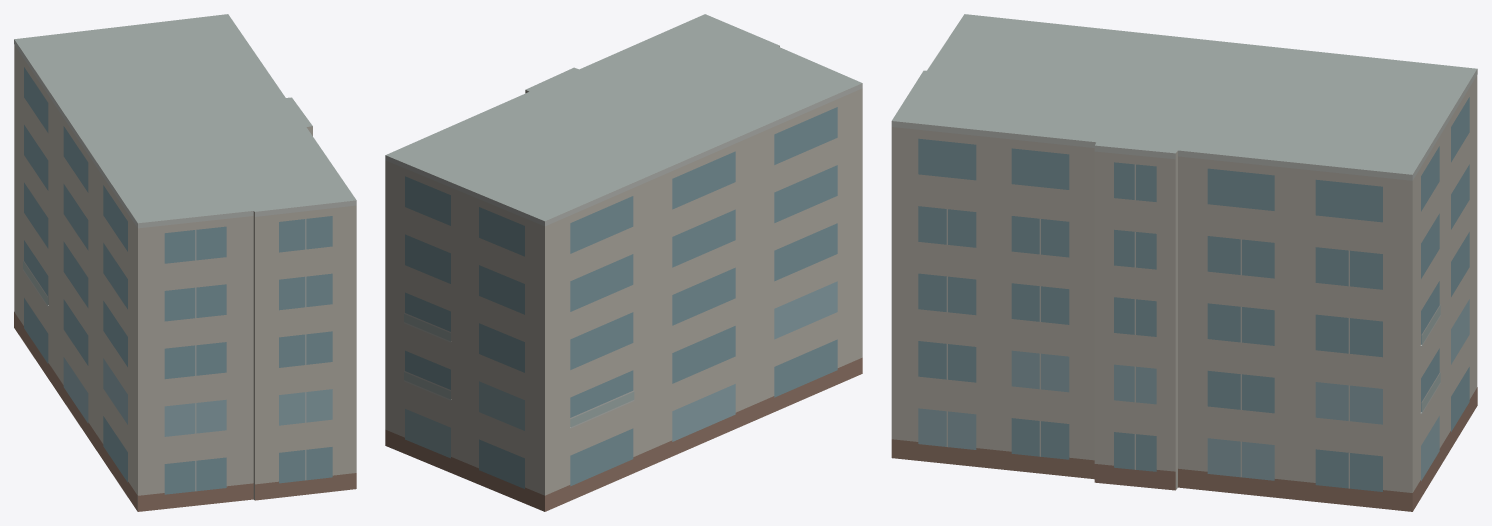
Rendered from survey-upis-32976503.glb.
3 renders of one model, left to right at view 1: azimuth 30°, elevation 25°; view 2: azimuth 150°, elevation 25°; view 3: azimuth 270°, elevation 25°, orthographic. The views are drawn at different scales.
Visible parts, largest first — view 1: survey-upis-32976503.tmp; view 2: survey-upis-32976503.tmp; view 3: survey-upis-32976503.tmp.
Part boxes in pixels (x1,y1,x2,y2): survey-upis-32976503.tmp: (14, 14, 356, 511); survey-upis-32976503.tmp: (385, 14, 862, 511); survey-upis-32976503.tmp: (891, 14, 1477, 511).
Size of the model in its own units: 14.13 by 13.8 by 21.75.
